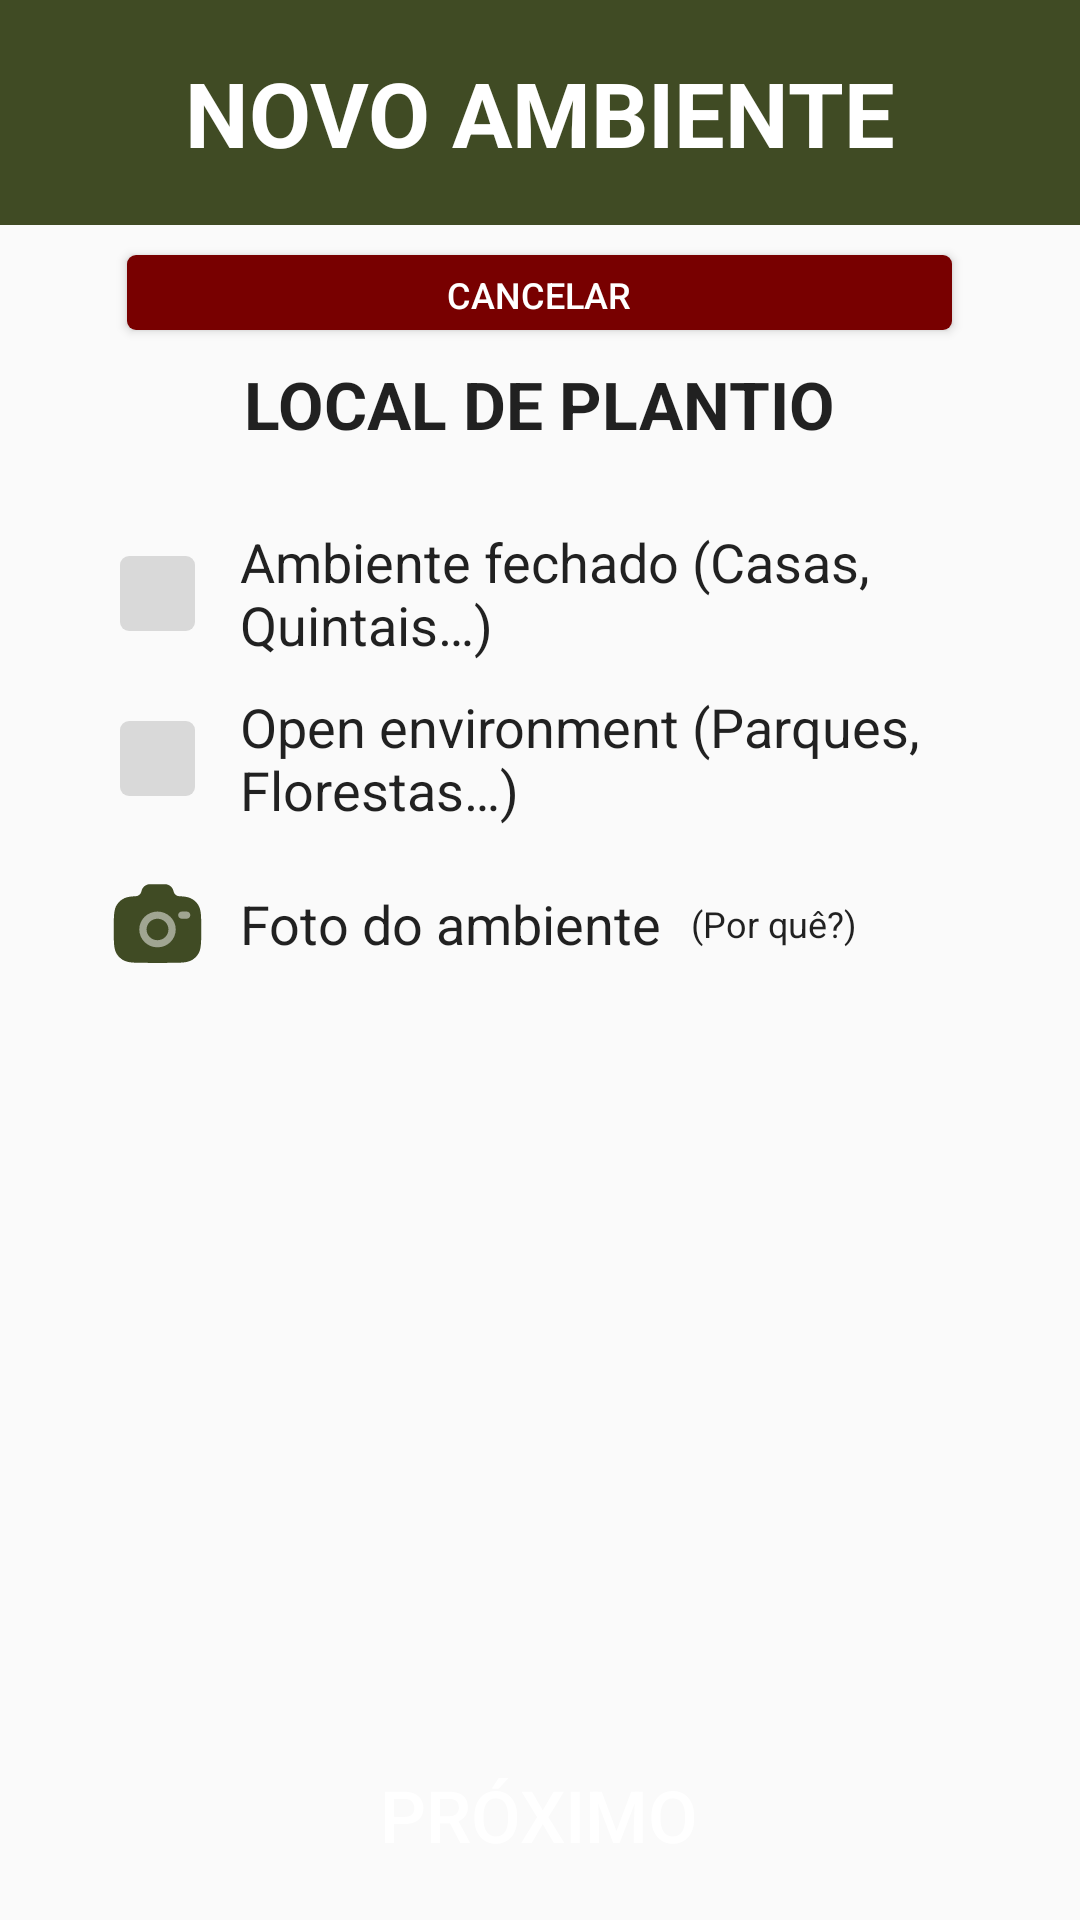

Icon click points for this 1080px×1920px phone screenshot, format (x,y):
camera: (157,923)
